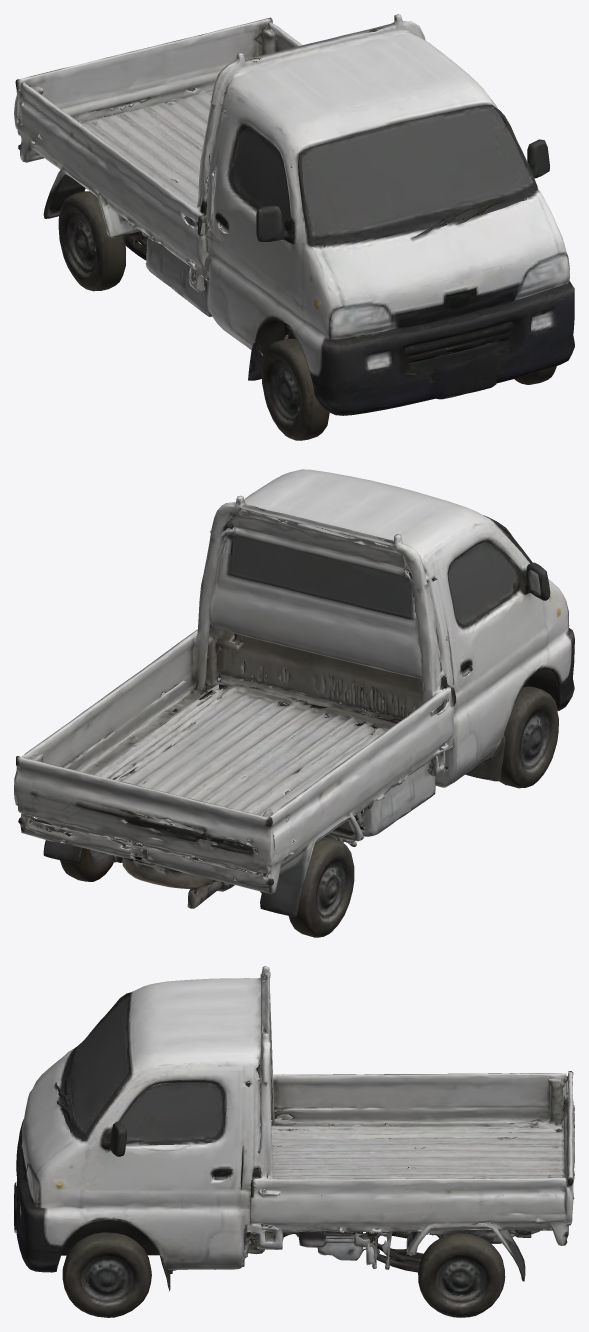
File: kei_truck.0.glb
3 renders of one model, top to bottom at view 1: azimuth 30°, elevation 25°; view 2: azimuth 150°, elevation 25°; view 3: azimuth 270°, elevation 25°, orthographic. The views are drawn at different scales.
Parts seen in each view (by area): view 1: geometry_0; view 2: geometry_0; view 3: geometry_0.
Part boxes in pixels (x1,y1,x2,y2): geometry_0: (14,14,574,440); geometry_0: (14,469,574,937); geometry_0: (14,966,574,1317).
Bounding box in the file's own units: 0.519 × 0.5229 × 0.9958.
Materials: 1 (1 with a texture image).
